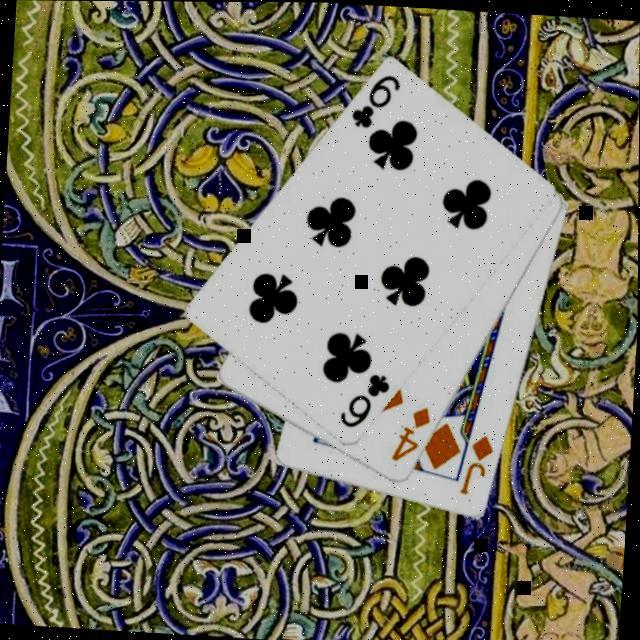4D: (391, 404, 437, 468)
6C: (338, 370, 396, 435), (349, 72, 405, 135)
JD: (459, 432, 500, 500)
